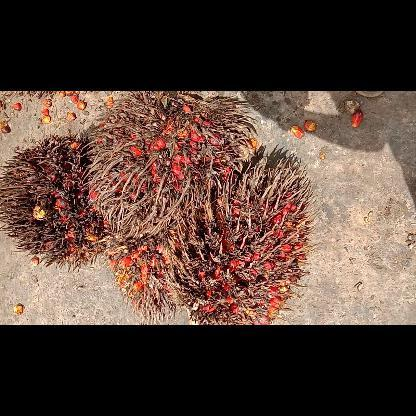Terlalu masak: (164, 150, 322, 324), (86, 91, 262, 245), (0, 130, 113, 271), (103, 230, 189, 324)
